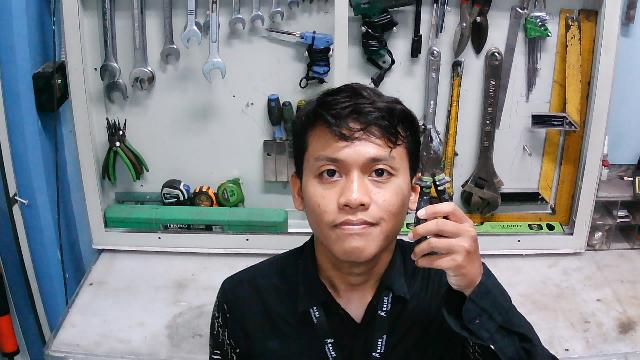tang_kombinasi: (411, 123, 458, 260)
